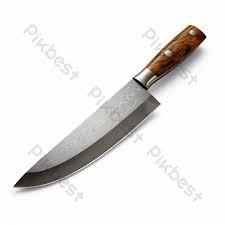Knife: (12, 23, 206, 188)
